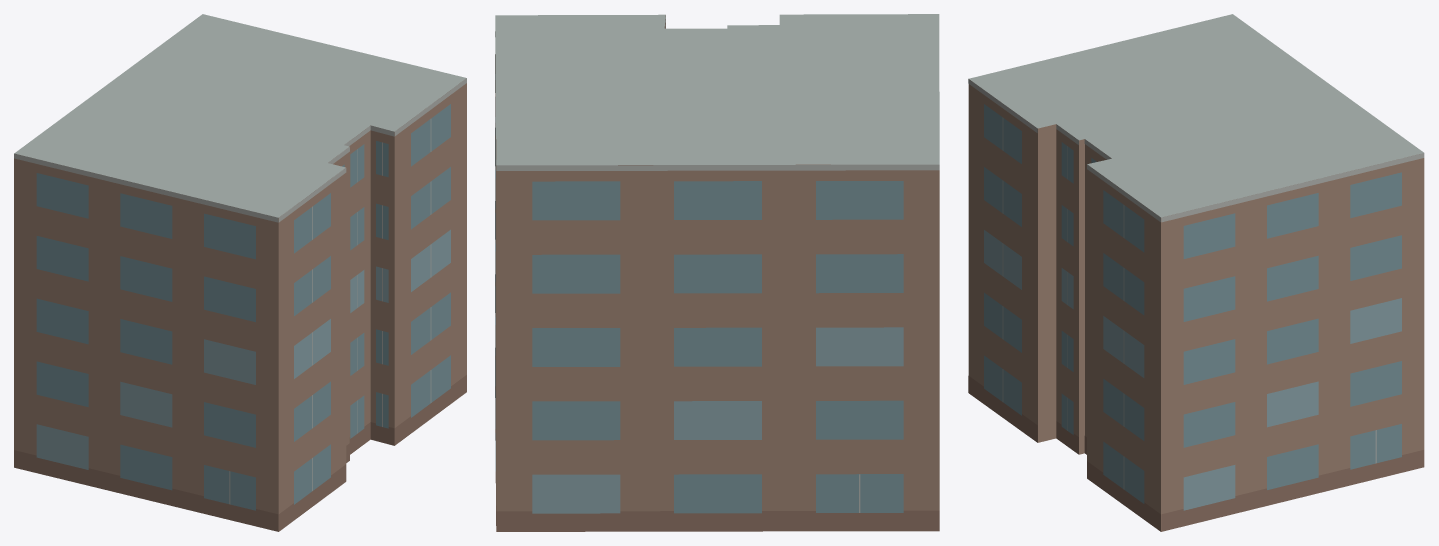
File: survey-upis-32720107.glb
3 renders of one model, left to right at view 1: azimuth 30°, elevation 25°; view 2: azimuth 150°, elevation 25°; view 3: azimuth 270°, elevation 25°, orthographic. The views are drawn at different scales.
Parts seen in each view (by area): view 1: survey-upis-32720107.tmp; view 2: survey-upis-32720107.tmp; view 3: survey-upis-32720107.tmp.
Boxes of the visible parts, x1,y1,x2,y2 form: survey-upis-32720107.tmp: [14, 14, 466, 531]; survey-upis-32720107.tmp: [495, 14, 939, 531]; survey-upis-32720107.tmp: [968, 14, 1424, 531].
Size of the model in its own units: 21.47 by 15.45 by 20.31.
